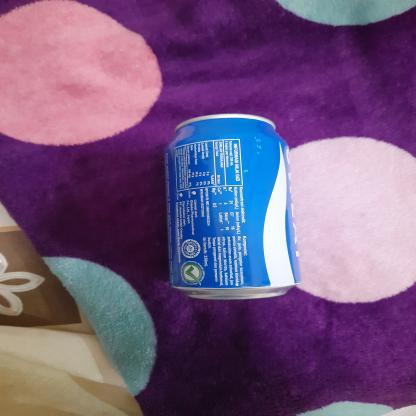bottle: (161, 111, 297, 303)
